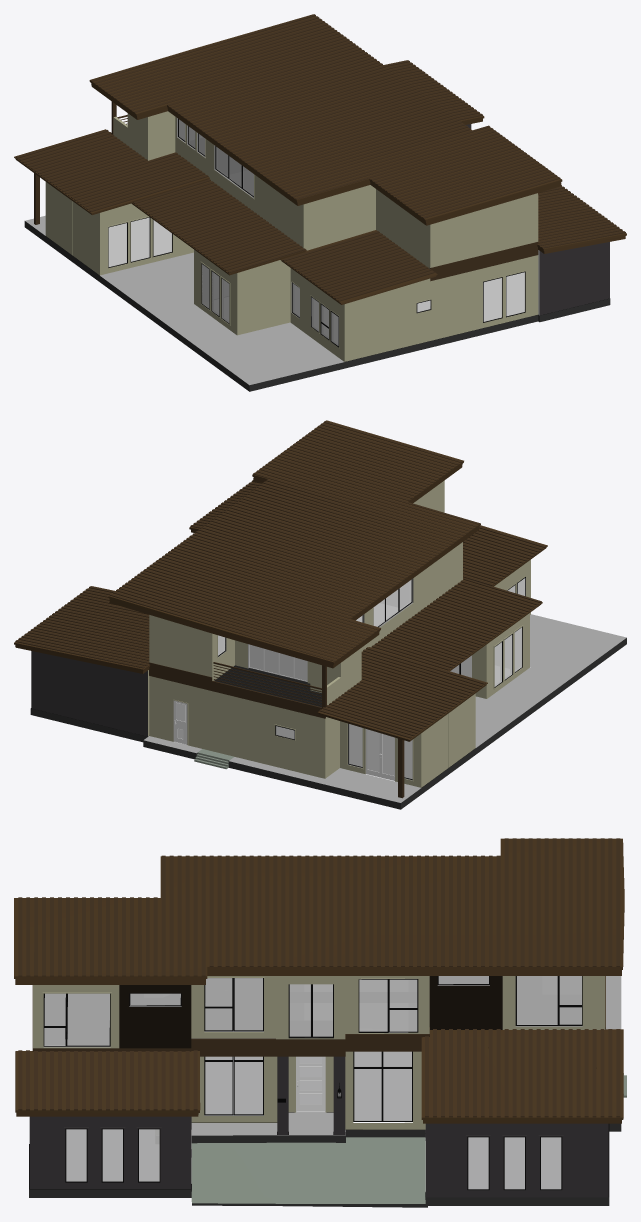
File: BH_variant_1.glb
3 views of the same model, one above another, from view 1: azimuth 30°, elevation 25°; view 2: azimuth 150°, elevation 25°; view 3: azimuth 270°, elevation 25° (orthographic). The views are drawn at different scales.
Parts seen in each view (by area): view 1: ROOF.001, LF_EXT.001, TF_EXT.001, portico, WindowsBH, outermetal.001; view 2: ROOF.001, LF_EXT.001, portico, TF_EXT.001, WindowsBH, outermetal.001, TF_FLOOR, Outdoor_Door.001_d1, Door01_Support_d1.001, Laundry_Door_d1, Outdoor_Door_d1; view 3: ROOF.001, WindowsBH, LF_EXT.001, portico, TF_EXT.001, outermetal.001, Entrance_door_d1, FIREPLACE.001.
Part boxes in pixels (x1,y1,x2,y2): ROOF.001: (14, 14, 626, 304); LF_EXT.001: (45, 124, 609, 361); TF_EXT.001: (113, 111, 538, 268); portico: (24, 215, 610, 391); WindowsBH: (108, 119, 525, 347); outermetal.001: (429, 242, 538, 281); ROOF.001: (14, 420, 547, 798); LF_EXT.001: (31, 559, 530, 787); portico: (30, 614, 626, 809); TF_EXT.001: (149, 480, 462, 704); WindowsBH: (218, 577, 525, 779); outermetal.001: (149, 662, 325, 718); TF_FLOOR: (214, 665, 321, 707); Outdoor_Door.001_d1: (366, 729, 380, 777); Door01_Support_d1.001: (249, 644, 307, 681); Laundry_Door_d1: (173, 700, 187, 744); Outdoor_Door_d1: (380, 733, 394, 780); ROOF.001: (14, 838, 624, 1123); WindowsBH: (43, 976, 582, 1190); LF_EXT.001: (29, 1032, 608, 1197); portico: (29, 976, 626, 1207); TF_EXT.001: (33, 976, 605, 1048); outermetal.001: (32, 976, 605, 1056); Entrance_door_d1: (296, 1056, 325, 1112); FIREPLACE.001: (44, 985, 582, 1115).
Bounding box in the file's own units: 24.33 × 8.6 × 25.06.
